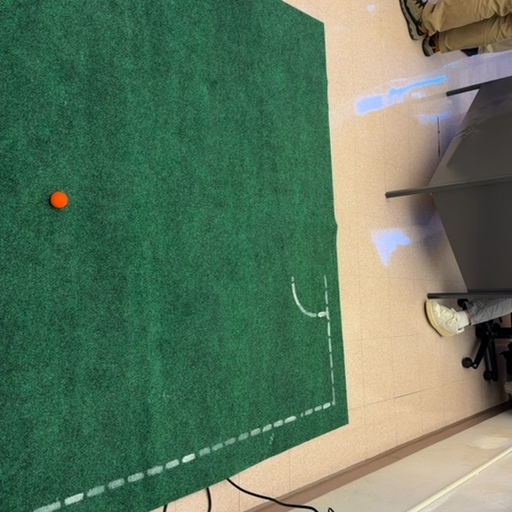Ball: (50, 192, 68, 208)
